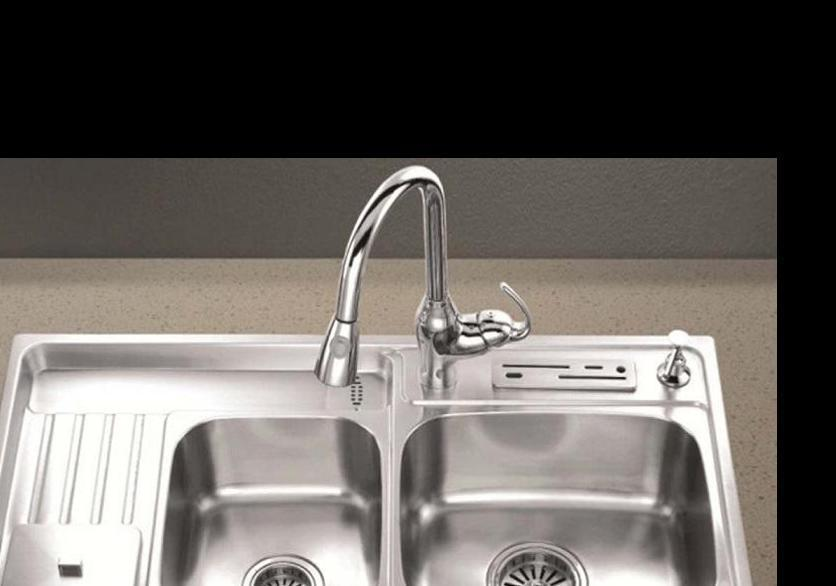Lavaplatos: (0, 158, 756, 586)
